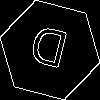D: (25, 25, 71, 78)
